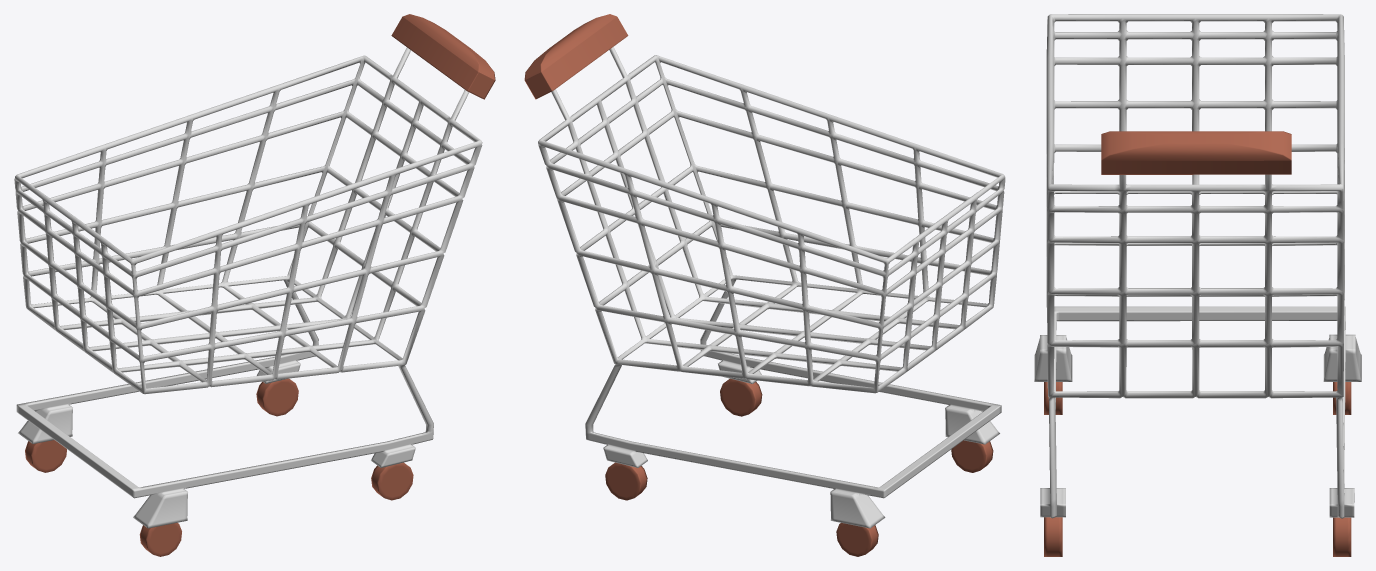
Rendered from shoppingCart.glb.
3 renders of one model, left to right at view 1: azimuth 30°, elevation 25°; view 2: azimuth 150°, elevation 25°; view 3: azimuth 270°, elevation 25°, orthographic. The views are drawn at different scales.
Visible parts, largest first — view 1: shopping cart_base, shopping cart_wheel, shopping hand; view 2: shopping cart_base, shopping cart_wheel, shopping hand; view 3: shopping cart_base, shopping hand, shopping cart_wheel.
Boxes of the visible parts, <box> form: shopping cart_base: <box>14,47,482,528</box>; shopping cart_wheel: <box>25,378,413,556</box>; shopping hand: <box>391,14,495,99</box>; shopping cart_base: <box>538,47,1005,528</box>; shopping cart_wheel: <box>605,378,993,556</box>; shopping hand: <box>524,14,628,99</box>; shopping cart_base: <box>1034,14,1361,518</box>; shopping hand: <box>1101,131,1291,174</box>; shopping cart_wheel: <box>1044,382,1351,556</box>.
Bounding box in the file's own units: 0.9858 × 0.949 × 0.5721.
